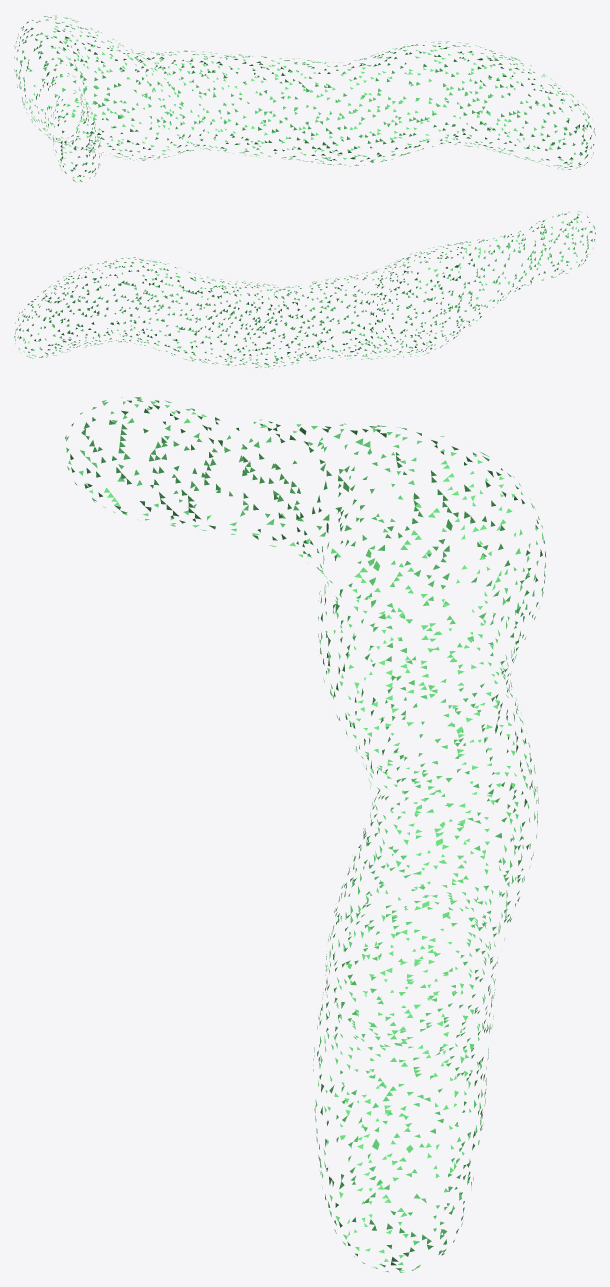
Rendered from morph_019.glb.
The picture shows the model from 3 angles, top to bottom: view 1: azimuth 30°, elevation 25°; view 2: azimuth 150°, elevation 25°; view 3: azimuth 270°, elevation 25°; orthographic projection. The views are drawn at different scales.
Bounding box in the file's own units: 118 × 48.32 × 49.48.
